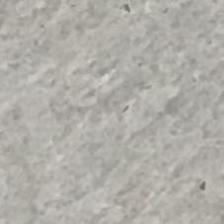Non_Crack: (8, 23, 216, 208)
